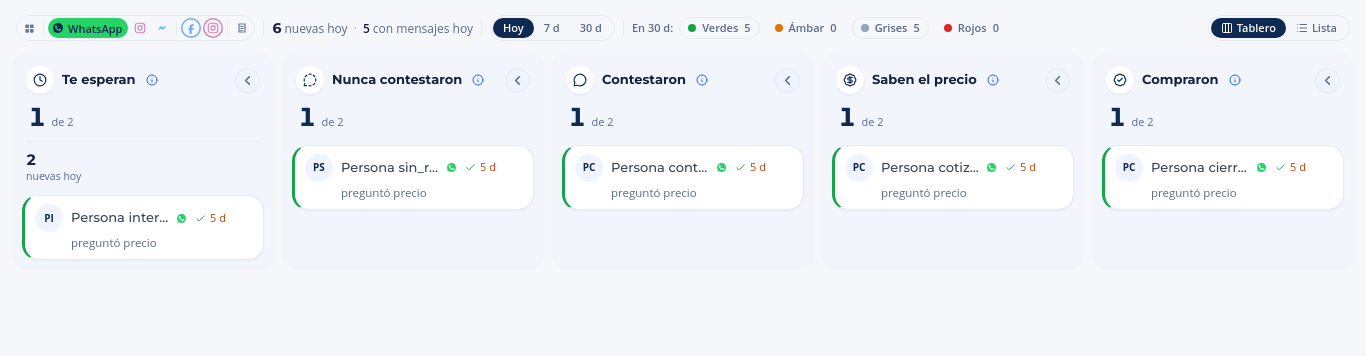
VistaEmbudo — la fila de arriba › con un server viejo (desglose de 30 d) «sin abrir» calla bajo un rango y vuelve en «30 d»
Click the button "30 d". click: click(591, 28)
box: [570,18,612,38]
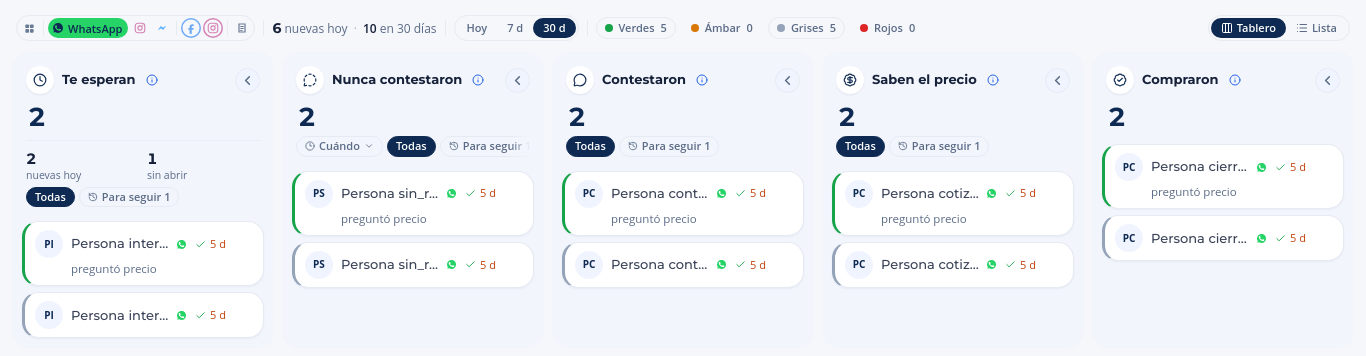
expect the header "Te esperan 2 2 nuevas hoy 1 sin abrir Todas Para seguir 1" is shown: met, box [20,60,266,219]
